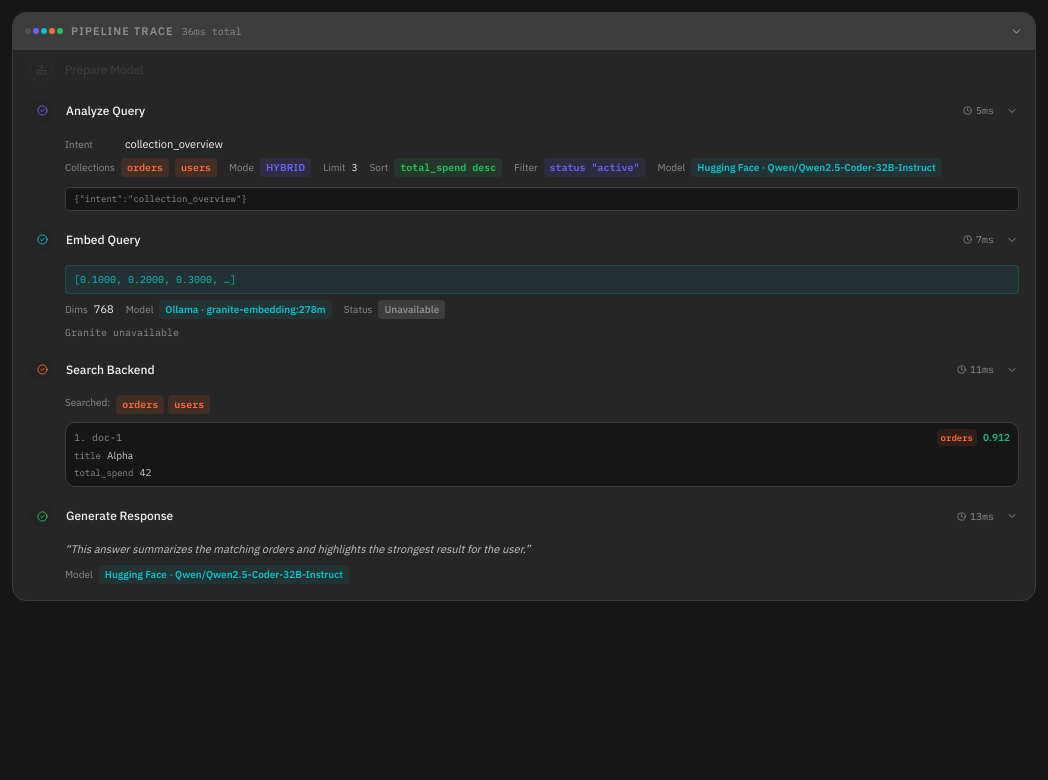
Test: PipelineTrace › renders detailed previews for analyze, embed, search, and respond steps
Expected: the text "36ms total" is shown, left=182, top=24, right=242, bottom=39
Expected: the text "hybrid" is shown, left=260, top=158, right=311, bottom=177
Click the button "Analyze Query 5ms".
click(106, 110)  # box left=17, top=90, right=1031, bottom=132
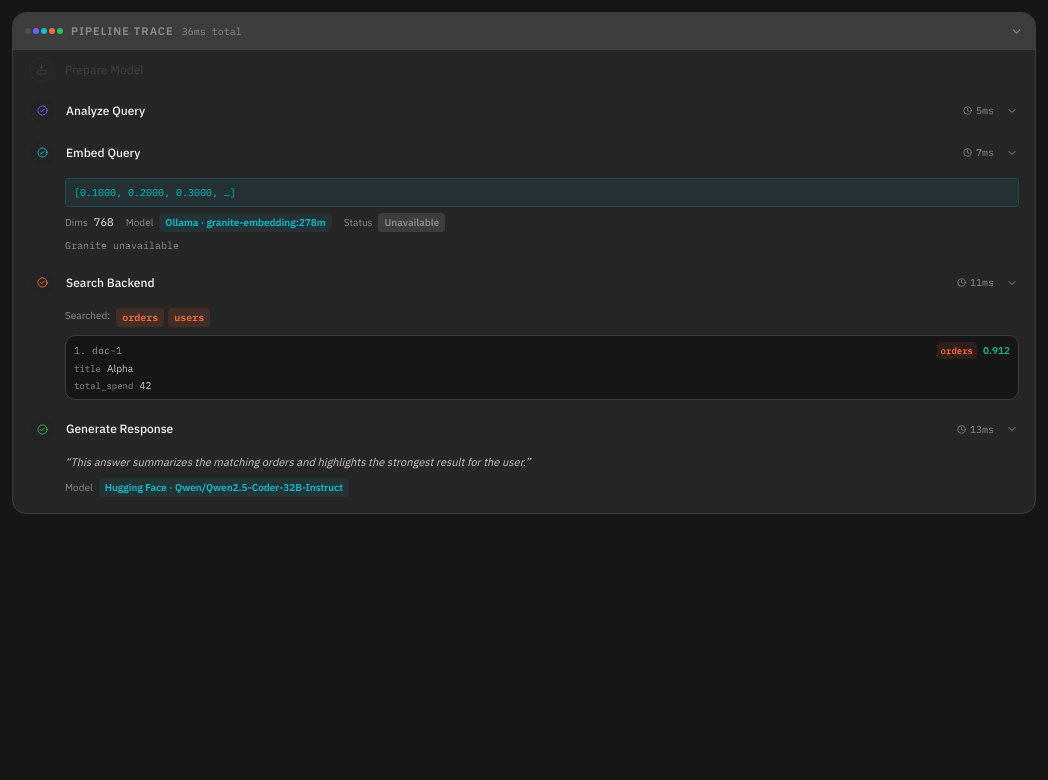
Now the text "{\"intent\":\"collection_overview\"}" is gone
